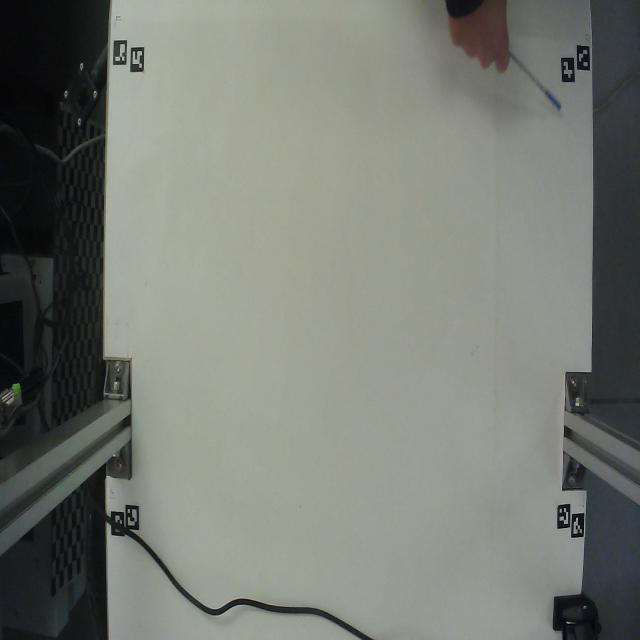NoPres: (502, 44, 572, 130)
